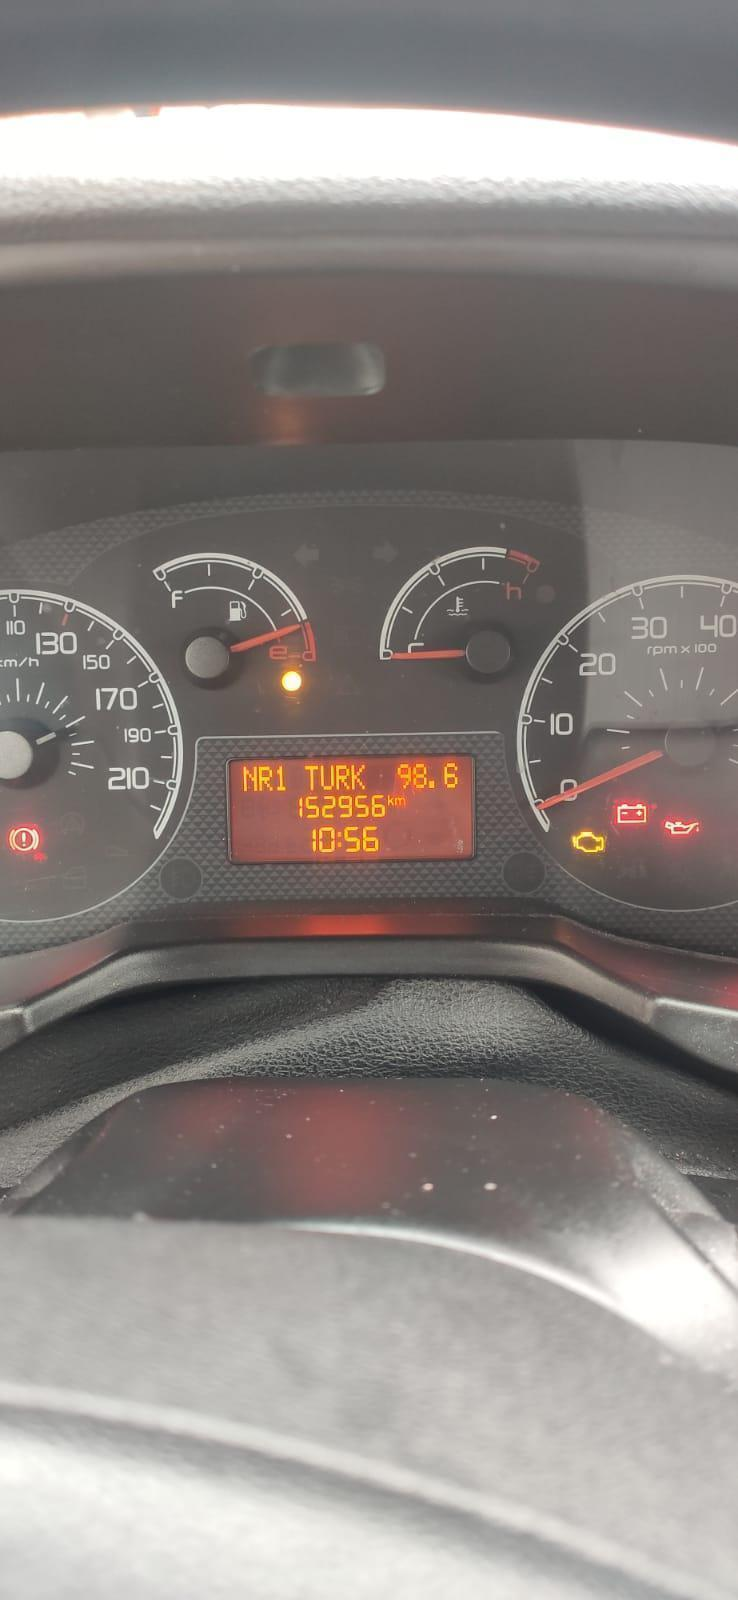,: (427, 778, 436, 789)
0: (318, 824, 335, 853)
1: (275, 765, 288, 792), (310, 826, 317, 853), (297, 795, 304, 820)
2: (321, 794, 336, 818)
5: (343, 824, 360, 853), (304, 794, 319, 819), (354, 794, 370, 817)
6: (442, 761, 459, 790), (361, 824, 379, 853), (370, 793, 386, 818)
8: (412, 762, 427, 790)
9: (395, 762, 412, 790), (337, 794, 352, 817)
X: (351, 763, 367, 790), (241, 764, 257, 791), (303, 764, 318, 791), (258, 765, 273, 792), (319, 764, 334, 790), (335, 764, 349, 790), (394, 796, 407, 807), (387, 793, 394, 807), (337, 830, 341, 848)
odometer: (219, 747, 479, 867)
